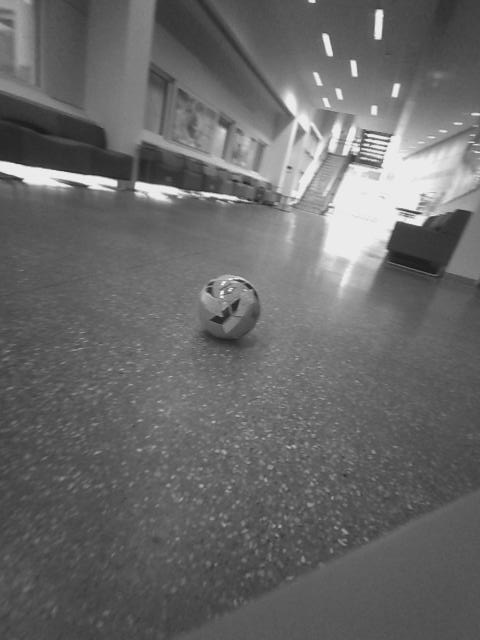ball: (389, 402, 480, 508)
